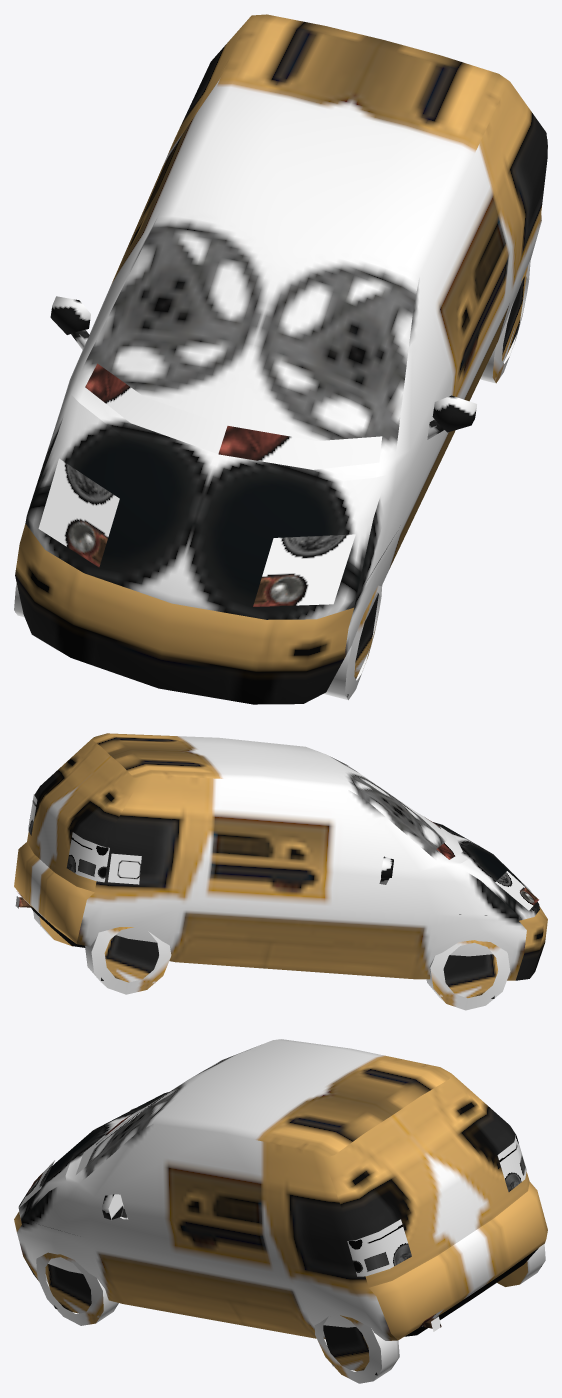
File: PSX_Daewoo_Matiz_(M100).obj
The picture shows the model from 3 angles, top to bottom: view 1: azimuth 30°, elevation 25°; view 2: azimuth 150°, elevation 25°; view 3: azimuth 270°, elevation 25°; orthographic projection. The views are drawn at different scales.
Parts seen in each view (by area): view 1: GeometryNode_5, GeometryNode_56, GeometryNode_39, GeometryNode_87; view 2: GeometryNode_5, GeometryNode_56, GeometryNode_73, GeometryNode_101; view 3: GeometryNode_5, GeometryNode_56, GeometryNode_87, GeometryNode_39, GeometryNode_101, GeometryNode_22.
Boxes of the visible parts, x1,y1,x2,y2 form: GeometryNode_5: (15,14,547,704); GeometryNode_56: (38,139,547,606); GeometryNode_39: (323,585,382,700); GeometryNode_87: (480,260,530,383); GeometryNode_5: (14,733,547,980); GeometryNode_56: (15,794,538,910); GeometryNode_73: (426,940,510,1010); GeometryNode_101: (85,927,171,994); GeometryNode_5: (14,1039,547,1340); GeometryNode_56: (18,1106,526,1331); GeometryNode_87: (314,1315,399,1383); GeometryNode_39: (36,1252,118,1325); GeometryNode_101: (497,1244,545,1286); GeometryNode_22: (51,1228,538,1336).
Bounding box in the file's own units: 6.27 × 4 × 6.24.
4 materials, 3 textured.
